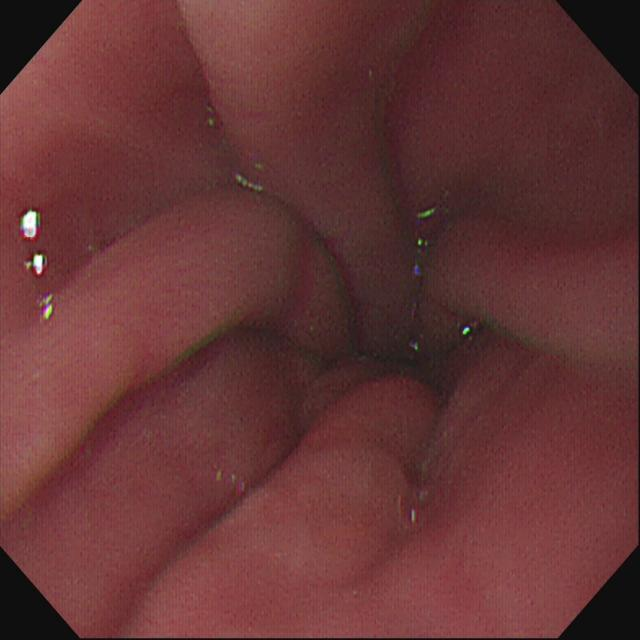U: (21, 210, 41, 243), (34, 253, 50, 279), (40, 296, 55, 322)
